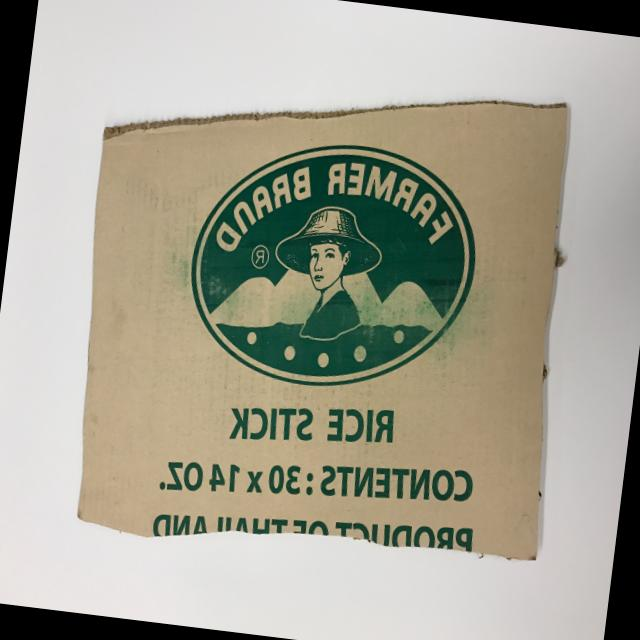Cardboard: (45, 41, 608, 599)
